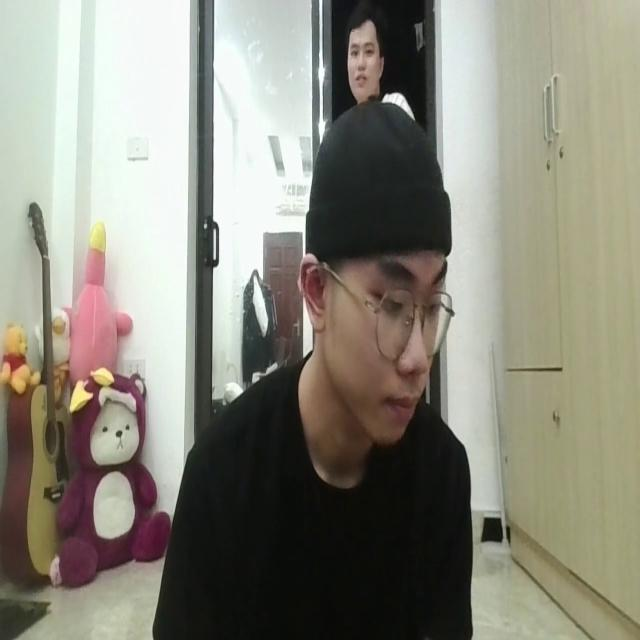extra_person: (346, 11, 393, 106)
student: (148, 101, 466, 640)
